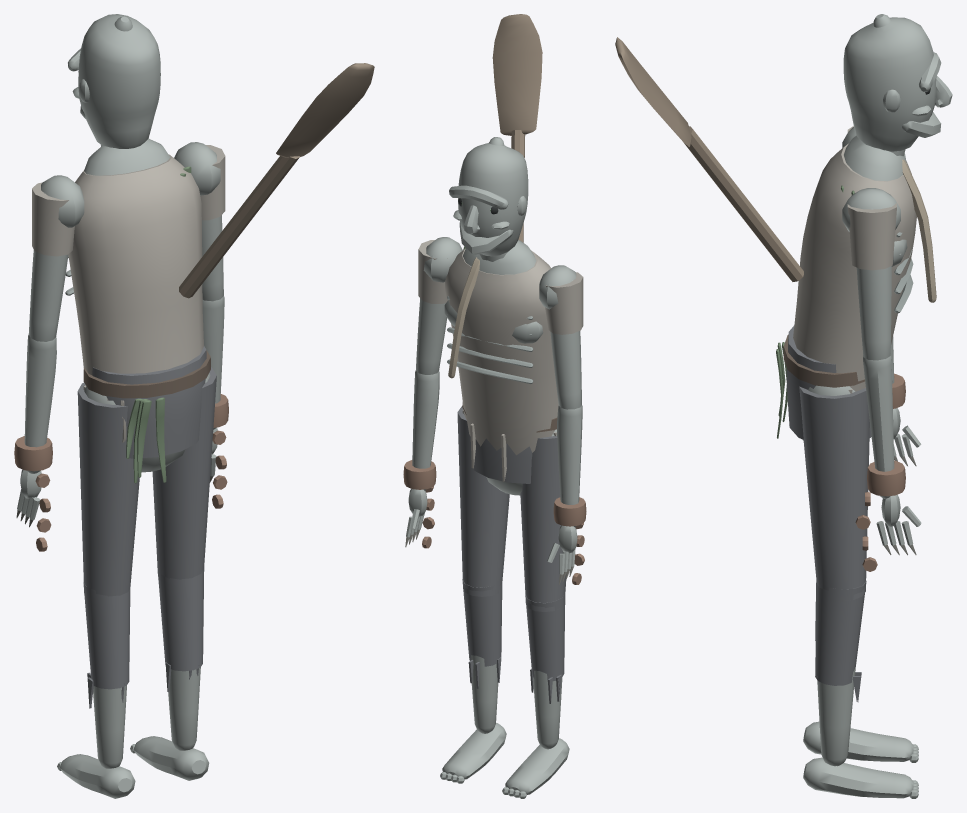
File: en_drowned_runner.gltf
3 renders of one model, left to right at view 1: azimuth 30°, elevation 25°; view 2: azimuth 150°, elevation 25°; view 3: azimuth 270°, elevation 25°, orthographic. The views are drawn at different scales.
Parts seen in each view (by area): view 1: Spine, LegL, Head, ShinL, ShinR, LegR, Hips, V3_Oar, ArmL, ForeL, ArmR, ForeR (+2 smaller); view 2: Spine, ShinL, ShinR, Head, LegR, LegL, V3_Oar, ArmL, ForeL, ForeR, ArmR, Hips (+4 smaller); view 3: Spine, LegR, Head, ShinR, ArmR, V3_Oar, ForeR, Hips, ShinL, V1_ShackleR, V2_Noose, ForeL.
Part boxes in pixels (left/top/right/bottom): Spine: left=41, top=138, right=220, bottom=483; LegL: left=77, top=382, right=139, bottom=598; Head: left=68, top=14, right=160, bottom=148; ShinL: left=57, top=583, right=135, bottom=798; ShinR: left=130, top=565, right=209, bottom=780; LegR: left=152, top=367, right=216, bottom=581; Hips: left=83, top=346, right=210, bottom=472; V3_Oar: left=179, top=63, right=374, bottom=298; ArmL: left=28, top=182, right=74, bottom=341; ForeL: left=16, top=334, right=56, bottom=527; ArmR: left=200, top=145, right=225, bottom=301; ForeR: left=202, top=296, right=224, bottom=482; Spine: left=423, top=237, right=576, bottom=481; ShinL: left=502, top=593, right=569, bottom=798; ShinR: left=440, top=579, right=506, bottom=783; Head: left=449, top=137, right=528, bottom=256; LegR: left=457, top=406, right=509, bottom=596; LegL: left=520, top=429, right=566, bottom=611; V3_Oar: left=492, top=14, right=542, bottom=242; ArmL: left=545, top=272, right=583, bottom=409; ForeL: left=547, top=405, right=582, bottom=584; ForeR: left=405, top=370, right=439, bottom=547; ArmR: left=415, top=240, right=447, bottom=374; Hips: left=462, top=402, right=557, bottom=495; Spine: left=776, top=127, right=916, bottom=438; LegR: left=799, top=385, right=869, bottom=601; Head: left=843, top=14, right=952, bottom=151; ShinR: left=803, top=580, right=918, bottom=798; ArmR: left=847, top=203, right=896, bottom=360; V3_Oar: left=615, top=37, right=803, bottom=281; ForeR: left=863, top=353, right=921, bottom=555; Hips: left=783, top=325, right=871, bottom=440; ShinL: left=803, top=581, right=918, bottom=762; V1_ShackleR: left=855, top=460, right=905, bottom=571; V2_Noose: left=902, top=159, right=936, bottom=302; ForeL: left=890, top=336, right=921, bottom=466.
Bounding box in the file's own units: 0.5752 × 1.86 × 0.7247.
